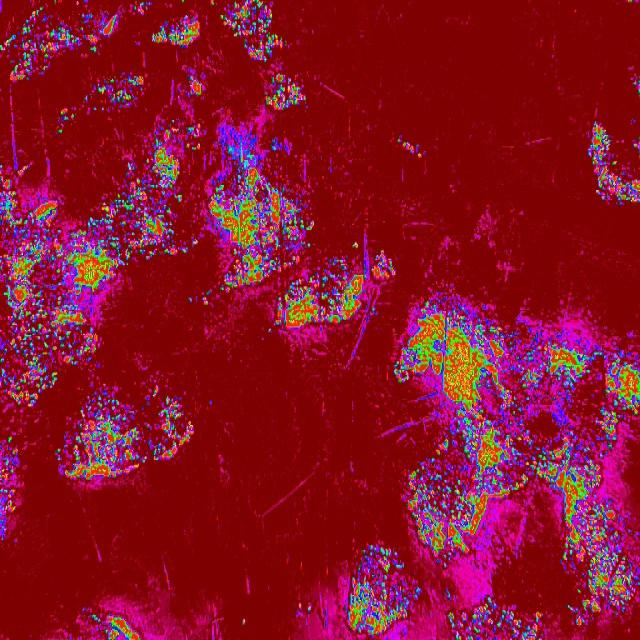fire: (558, 320, 640, 626), (201, 124, 315, 302), (409, 440, 554, 566), (394, 291, 558, 388), (1, 157, 57, 408), (128, 116, 200, 262), (56, 388, 140, 488), (57, 198, 102, 364), (0, 2, 77, 80), (436, 390, 556, 439), (348, 544, 409, 638), (316, 251, 394, 323), (588, 120, 640, 208), (443, 597, 541, 640), (141, 383, 194, 461), (220, 0, 284, 61), (102, 190, 130, 304), (83, 71, 145, 114), (0, 433, 21, 539), (78, 9, 122, 53), (262, 71, 306, 114), (150, 16, 201, 49), (266, 302, 317, 334), (90, 611, 140, 640), (396, 139, 427, 160), (55, 108, 76, 134), (188, 75, 204, 96), (132, 1, 152, 16), (298, 602, 314, 616), (412, 584, 422, 601), (634, 77, 640, 95), (442, 588, 452, 598), (240, 617, 248, 627), (350, 241, 359, 249), (186, 296, 193, 303), (626, 0, 634, 5), (209, 0, 215, 6), (181, 0, 187, 5)
